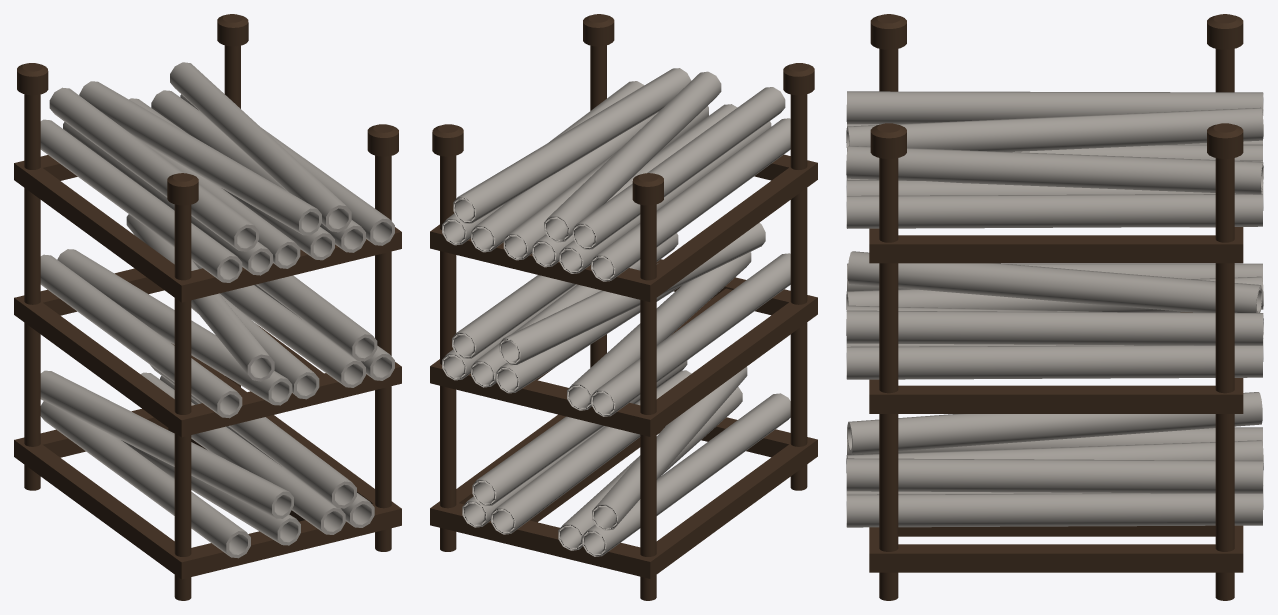
File: pipes-on-tower.glb
3 views of the same model, side by side, from view 1: azimuth 30°, elevation 25°; view 2: azimuth 150°, elevation 25°; view 3: azimuth 270°, elevation 25° (orthographic). The views are drawn at different scales.
Visible parts, largest first — view 1: Pipes on tower; view 2: Pipes on tower; view 3: Pipes on tower.
Boxes of the visible parts, x1=… form: Pipes on tower: x1=14, y1=14, x2=401, y2=600; Pipes on tower: x1=430, y1=14, x2=817, y2=600; Pipes on tower: x1=846, y1=14, x2=1263, y2=600.
Bounding box in the file's own units: 2.32 × 4.09 × 3.3.
1 material, 1 textured.
